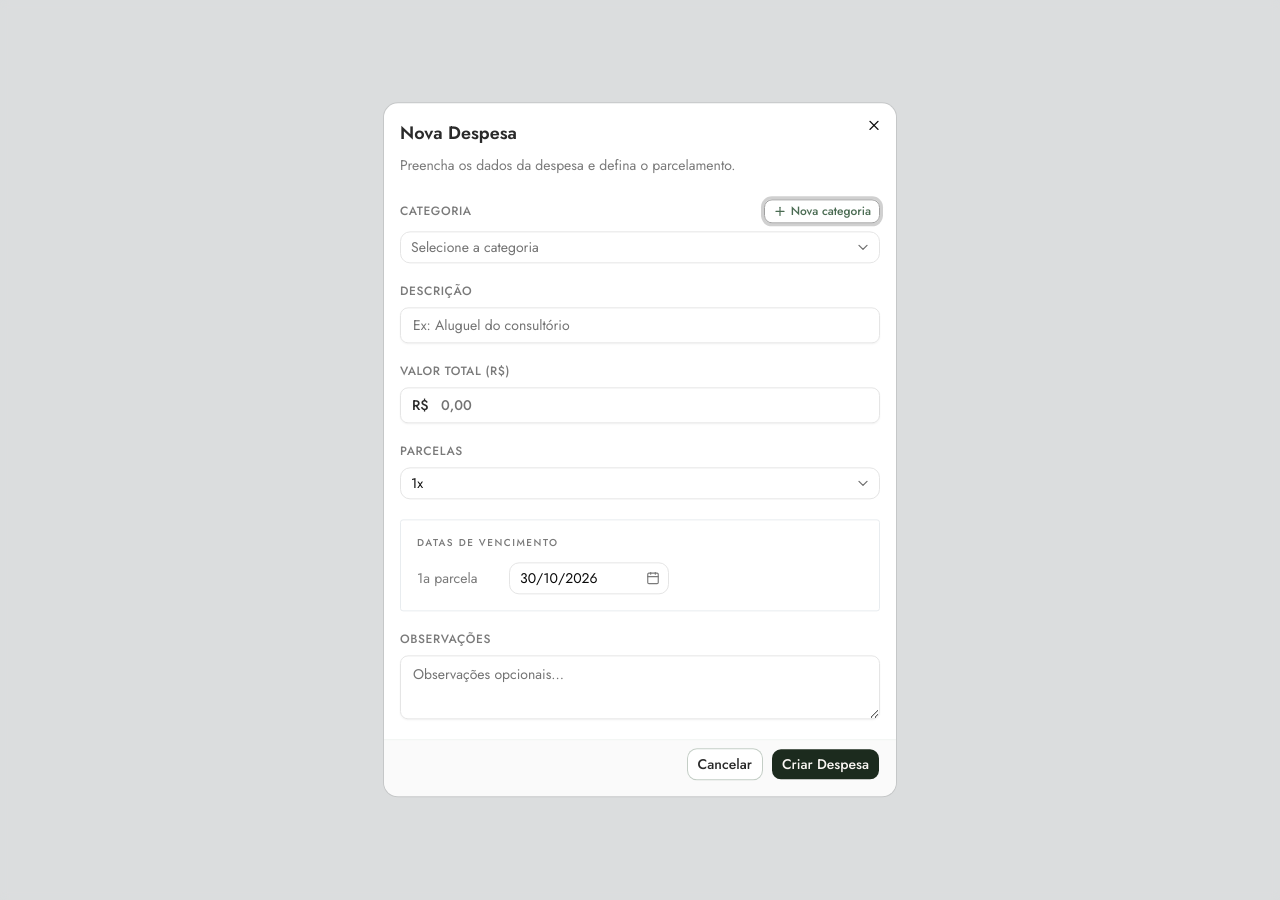
Test case: ExpenseForm › shows installment preview when amount is entered
Type "100000" into the field with test id "expense-amount" at (640, 405), box [400, 387, 880, 423]
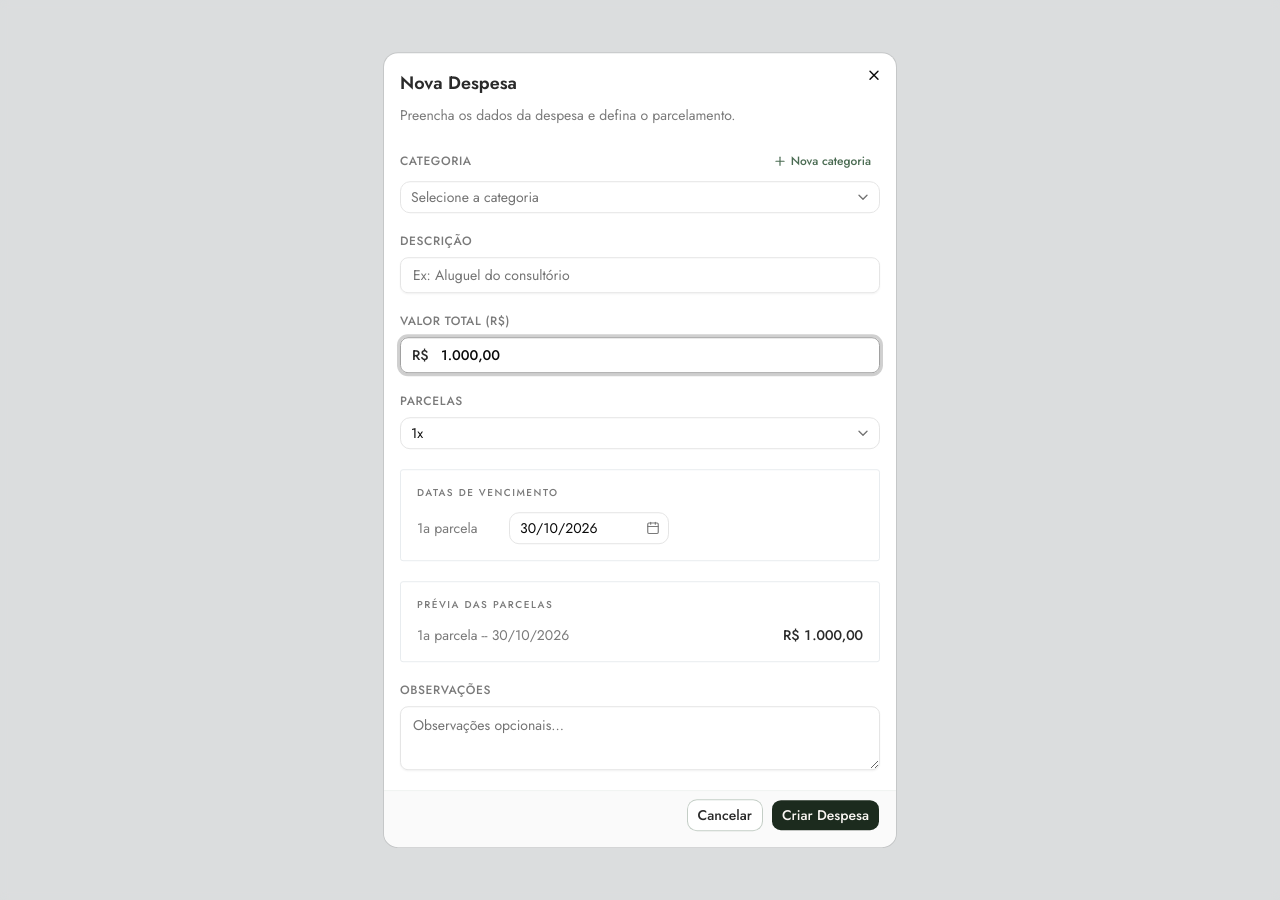
Check: the element with test id "installment-preview" is shown, box [400, 582, 880, 662]
